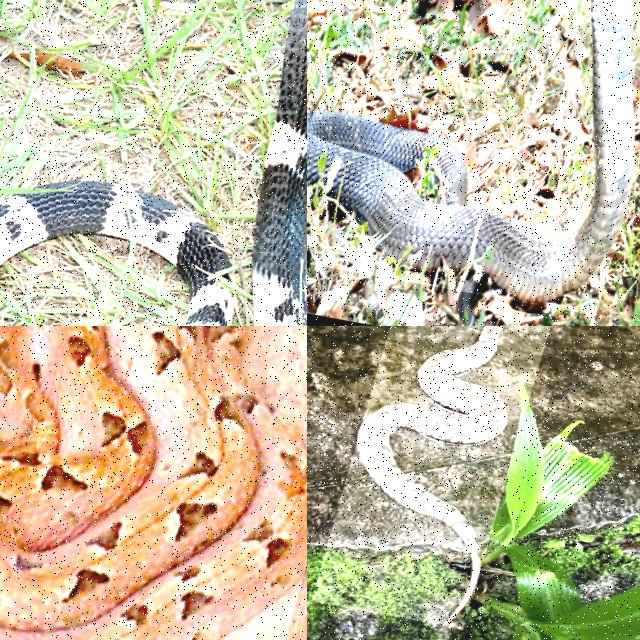Calloselasma rhodostoma: (0, 326, 306, 639)
Naja kaouthia: (307, 0, 632, 307), (251, 0, 306, 325)
Ovophis monticola: (356, 326, 506, 625)
snake: (307, 0, 632, 307), (0, 326, 306, 639), (356, 326, 506, 625), (251, 0, 306, 325)
